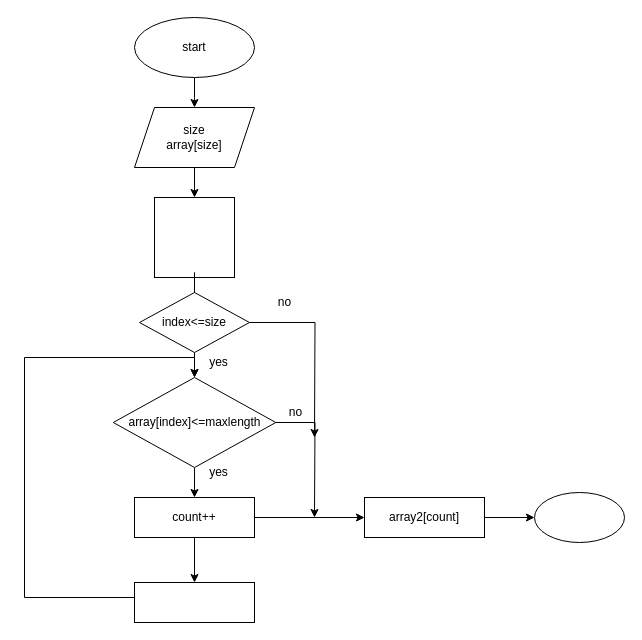
The diagram is 642 pixels wide and 640 high, and some of its shapes have lost their labels. Here are the shapes that lost their labels. From the top down, the centre of each, then its label:
At (194,237): "maxlength=3 index=0 count=0".
At (579,517): "end".
At (194,602): "i++".
